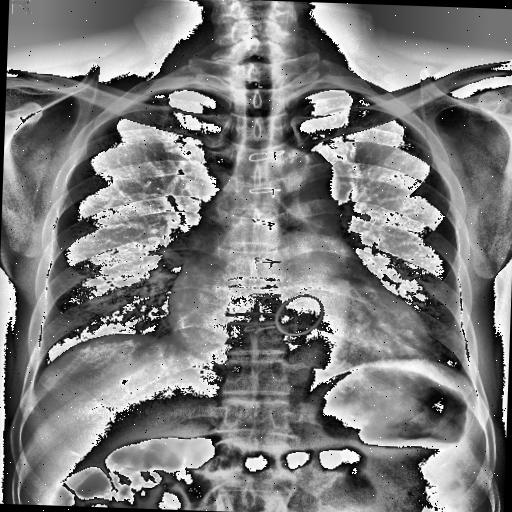3- Cardiomegaly: (150, 238, 439, 381), (159, 262, 443, 368)
9- Other lesion: (228, 134, 296, 342), (235, 150, 289, 334), (236, 139, 284, 340), (261, 287, 327, 340), (270, 288, 334, 341), (268, 284, 323, 337)
